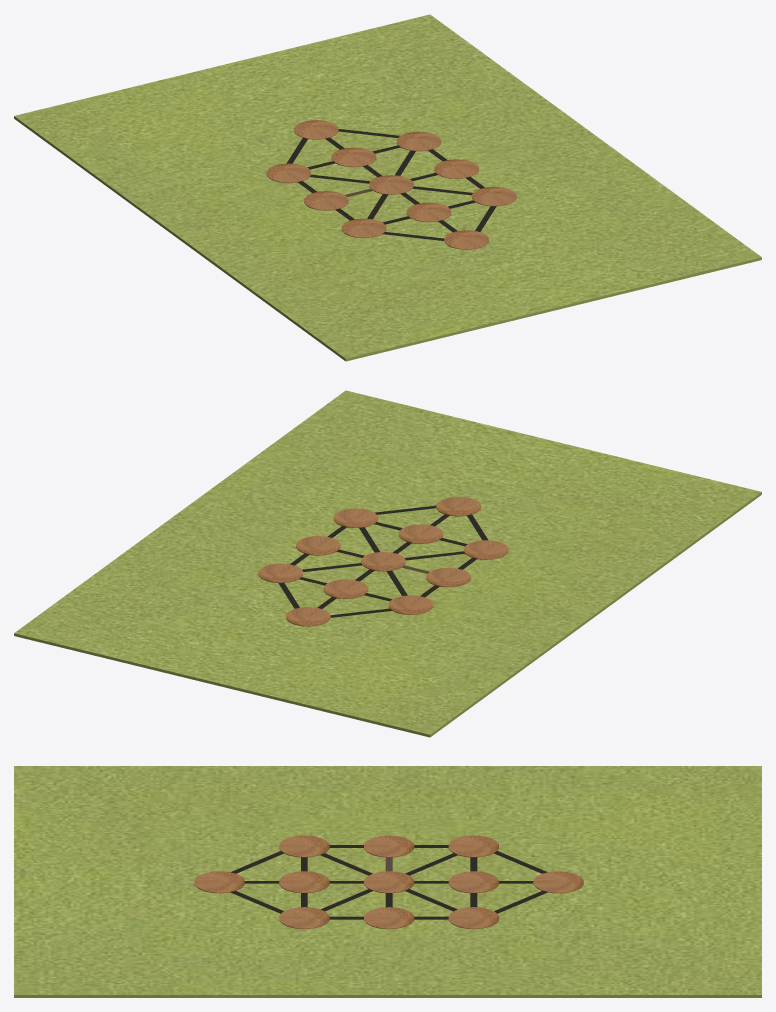
File: Stage.FBX
3 views of the same model, one above another, from view 1: azimuth 30°, elevation 25°; view 2: azimuth 150°, elevation 25°; view 3: azimuth 270°, elevation 25° (orthographic). The views are drawn at different scales.
Visible parts, largest first — view 1: Box023, Cylinder011, Cylinder006, Cylinder002, Cylinder003, Cylinder004, Cylinder009, Cylinder005, Cylinder001, Cylinder007, Cylinder008, Cylinder010; view 2: Box023, Cylinder007, Cylinder002, Cylinder010, Cylinder004, Cylinder011, Cylinder005, Cylinder008, Cylinder003, Cylinder006, Cylinder009, Cylinder001; view 3: Box023, Cylinder003, Cylinder006, Cylinder005, Cylinder007, Cylinder008, Cylinder009, Cylinder011, Cylinder010, Cylinder002, Cylinder004, Cylinder001.
Part boxes in pixels (x1,y1,x2,y2): Box023: (14, 14, 761, 361); Cylinder011: (341, 218, 386, 238); Cylinder006: (396, 131, 441, 151); Cylinder002: (406, 202, 451, 222); Cylinder003: (444, 230, 488, 249); Cylinder004: (331, 147, 376, 167); Cylinder009: (304, 191, 348, 210); Cylinder005: (294, 120, 338, 139); Cylinder001: (369, 175, 413, 194); Cylinder007: (266, 163, 310, 183); Cylinder008: (434, 159, 478, 178); Cylinder010: (472, 186, 516, 206); Box023: (14, 390, 761, 737); Cylinder007: (388, 595, 433, 614); Cylinder002: (398, 524, 443, 543); Cylinder010: (333, 508, 378, 527); Cylinder004: (323, 579, 368, 598); Cylinder011: (464, 540, 508, 559); Cylinder005: (286, 607, 330, 626); Cylinder008: (296, 536, 340, 555); Cylinder003: (436, 496, 480, 516); Cylinder006: (258, 563, 302, 582); Cylinder009: (426, 567, 470, 587); Cylinder001: (361, 552, 405, 571); Box023: (14, 766, 761, 997); Cylinder003: (194, 871, 244, 893); Cylinder006: (448, 907, 498, 929); Cylinder005: (533, 871, 583, 893); Cylinder007: (448, 835, 498, 857); Cylinder008: (364, 907, 414, 929); Cylinder009: (364, 835, 414, 857); Cylinder011: (279, 835, 329, 857); Cylinder010: (279, 907, 329, 929); Cylinder002: (279, 871, 329, 893); Cylinder004: (448, 871, 498, 893); Cylinder001: (364, 871, 414, 893).
Size of the model in its own units: 62.9 by 2.3 by 86.87.
24 materials, 24 textured.
